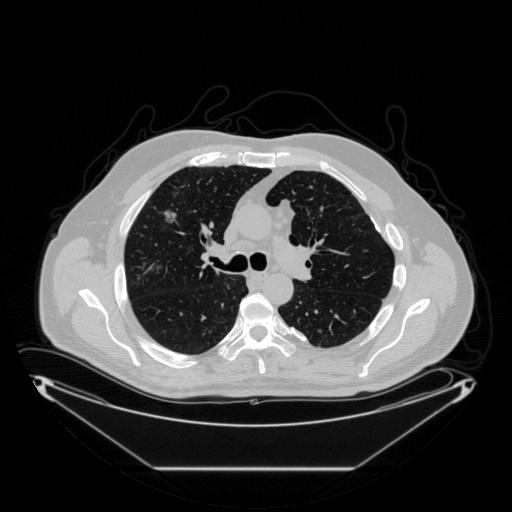nodule: (162, 209, 177, 224)
